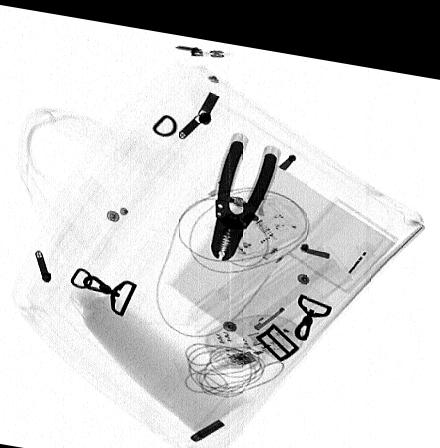Pliers: (210, 130, 277, 252)
